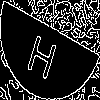H: (25, 25, 61, 81)
